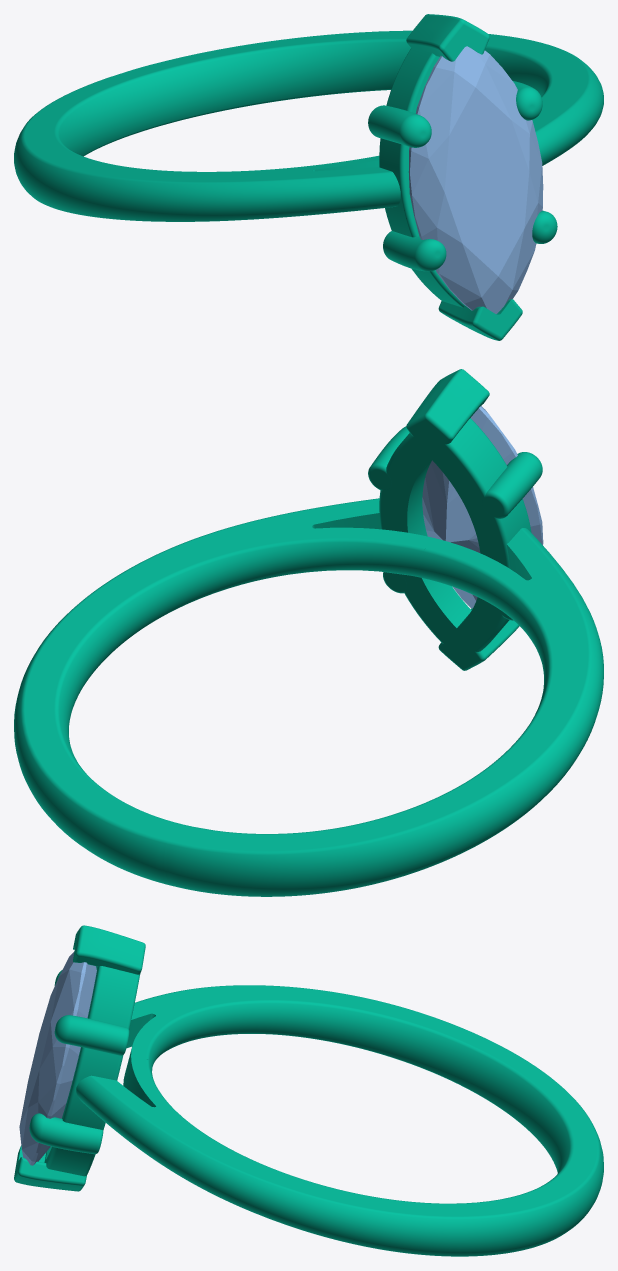
The picture shows the model from 3 angles, top to bottom: view 1: azimuth 30°, elevation 25°; view 2: azimuth 150°, elevation 25°; view 3: azimuth 270°, elevation 25°; orthographic projection. The views are drawn at different scales.
Parts seen in each view (by area): view 1: MARQUISE.3dm, Diamond_Marquise, Bezel; view 2: MARQUISE.3dm, Bezel, Diamond_Marquise; view 3: MARQUISE.3dm, Diamond_Marquise, Bezel.
Part boxes in pixels (x1,y1,x2,y2): MARQUISE.3dm: (14, 14, 603, 340); Diamond_Marquise: (408, 46, 543, 313); Bezel: (379, 48, 464, 307); MARQUISE.3dm: (14, 369, 603, 896); Bezel: (379, 418, 531, 657); Diamond_Marquise: (422, 406, 543, 608); MARQUISE.3dm: (14, 925, 603, 1256); Diamond_Marquise: (19, 952, 96, 1165); Bezel: (44, 966, 139, 1176).
Bounding box in the file's own units: 2.47 × 1.41 × 2.81.
